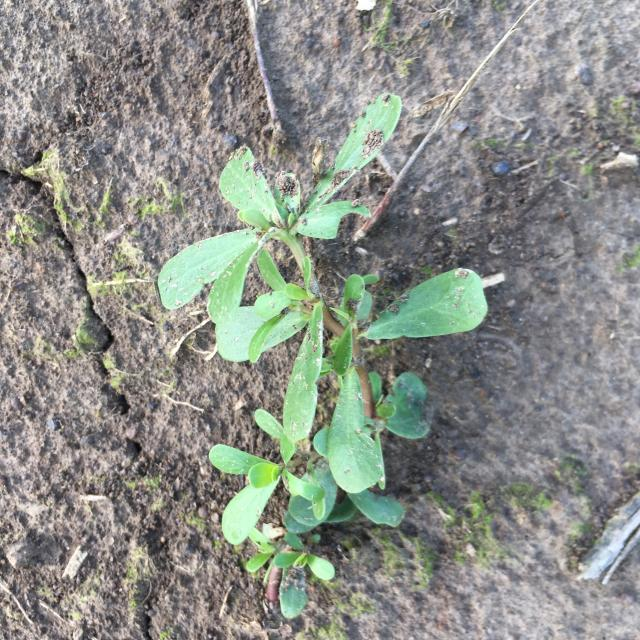Purslane: (157, 92, 488, 620)
